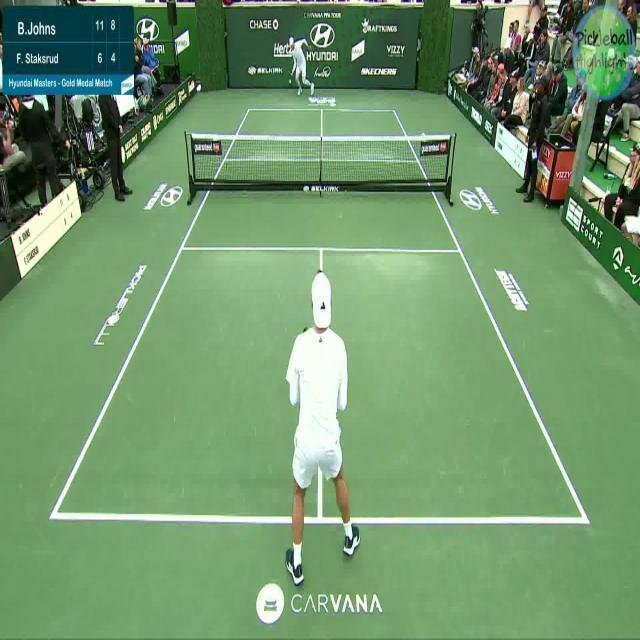Court: (52, 108, 588, 521)
ball: (286, 74, 296, 91)
